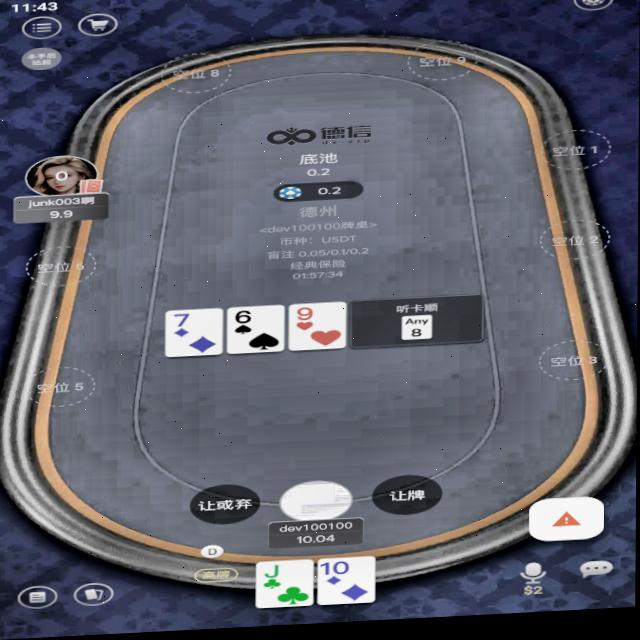10f: (319, 564, 351, 581)
6s: (229, 310, 262, 328)
7f: (170, 314, 196, 331)
9h: (293, 308, 320, 327)
Jm: (260, 566, 286, 583)
